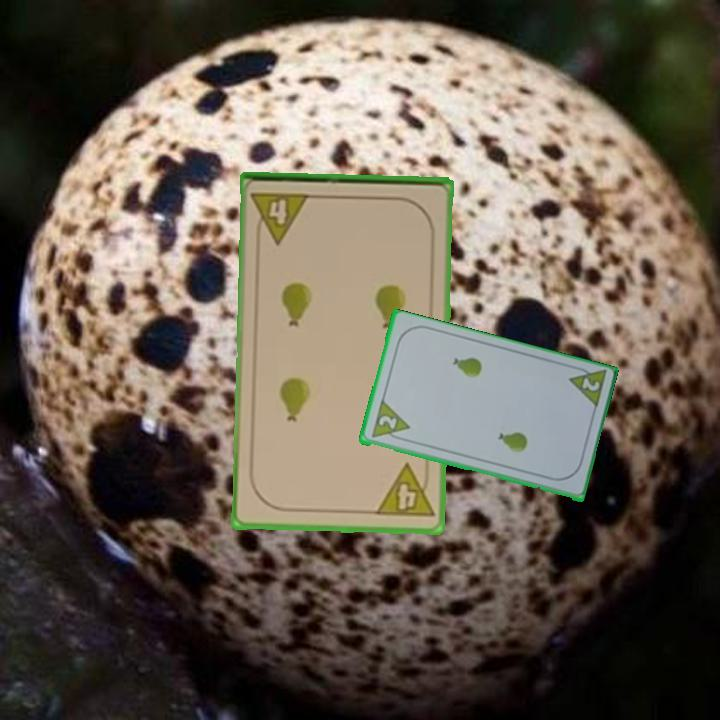2p: (564, 362, 609, 413), (375, 412, 400, 433)
4p: (372, 460, 437, 521), (248, 188, 313, 246)
